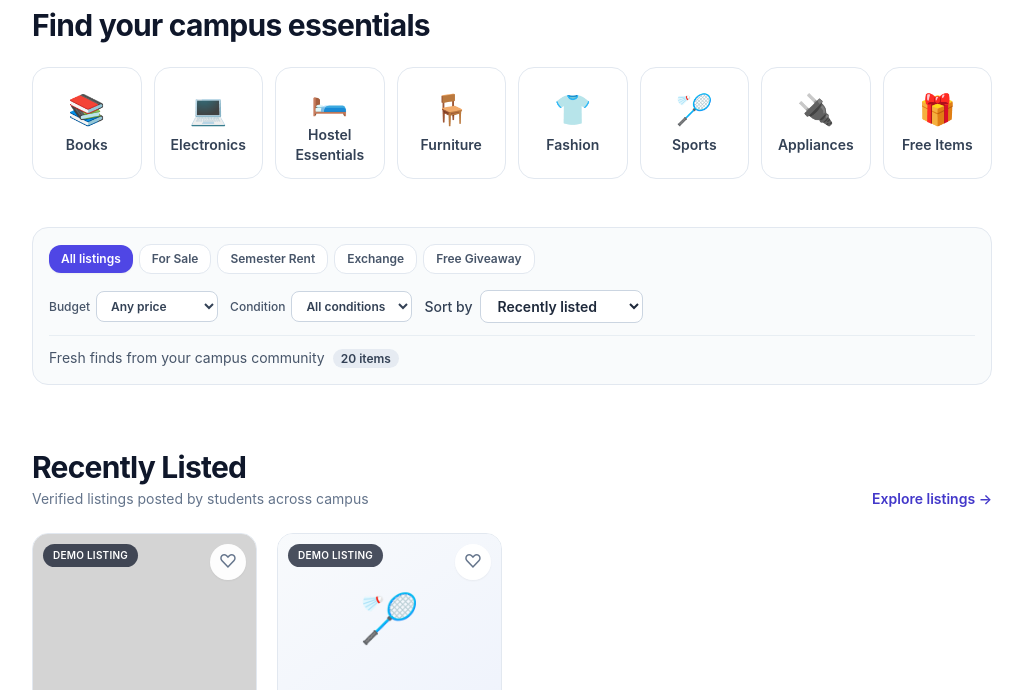
it: Home marketplace › sends sort and page selections to the paginated listings API
This screenshot has width=1024, height=690.
(page scrolled)
Expected: the heading "Recently Listed" is shown, [32, 449, 246, 485]
Select "Price: low to high" in the dropdown named "Sort listings" at (562, 306), box [480, 290, 644, 323]
(page scrolled)
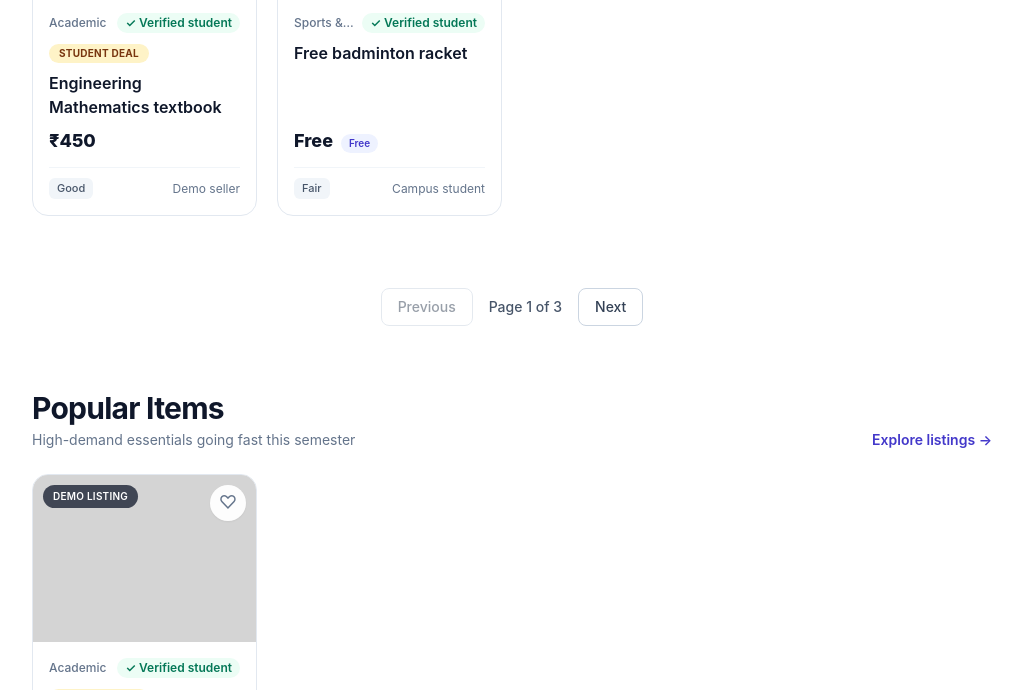
Click the button "Next" at (611, 307), box [578, 288, 643, 326]
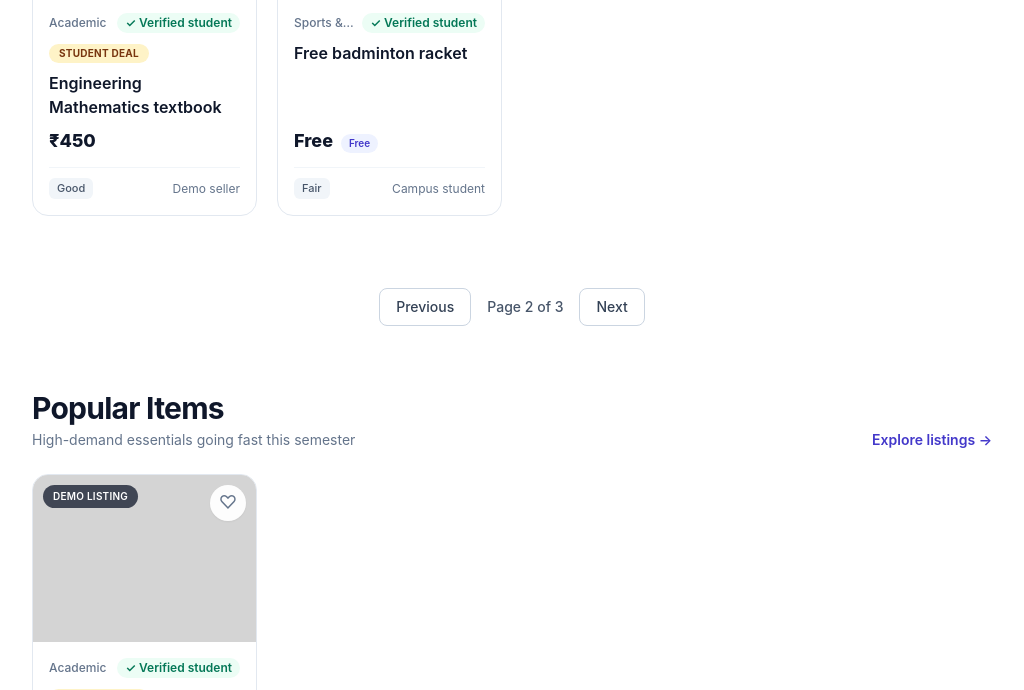
Expected: the text "Page 2 of 3" is shown, [487, 297, 564, 317]
